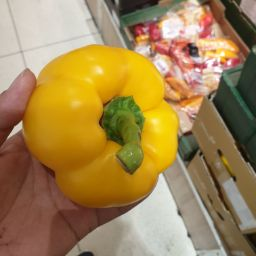Bell pepper: (31, 37, 183, 206), (25, 102, 161, 213), (57, 71, 164, 192)
